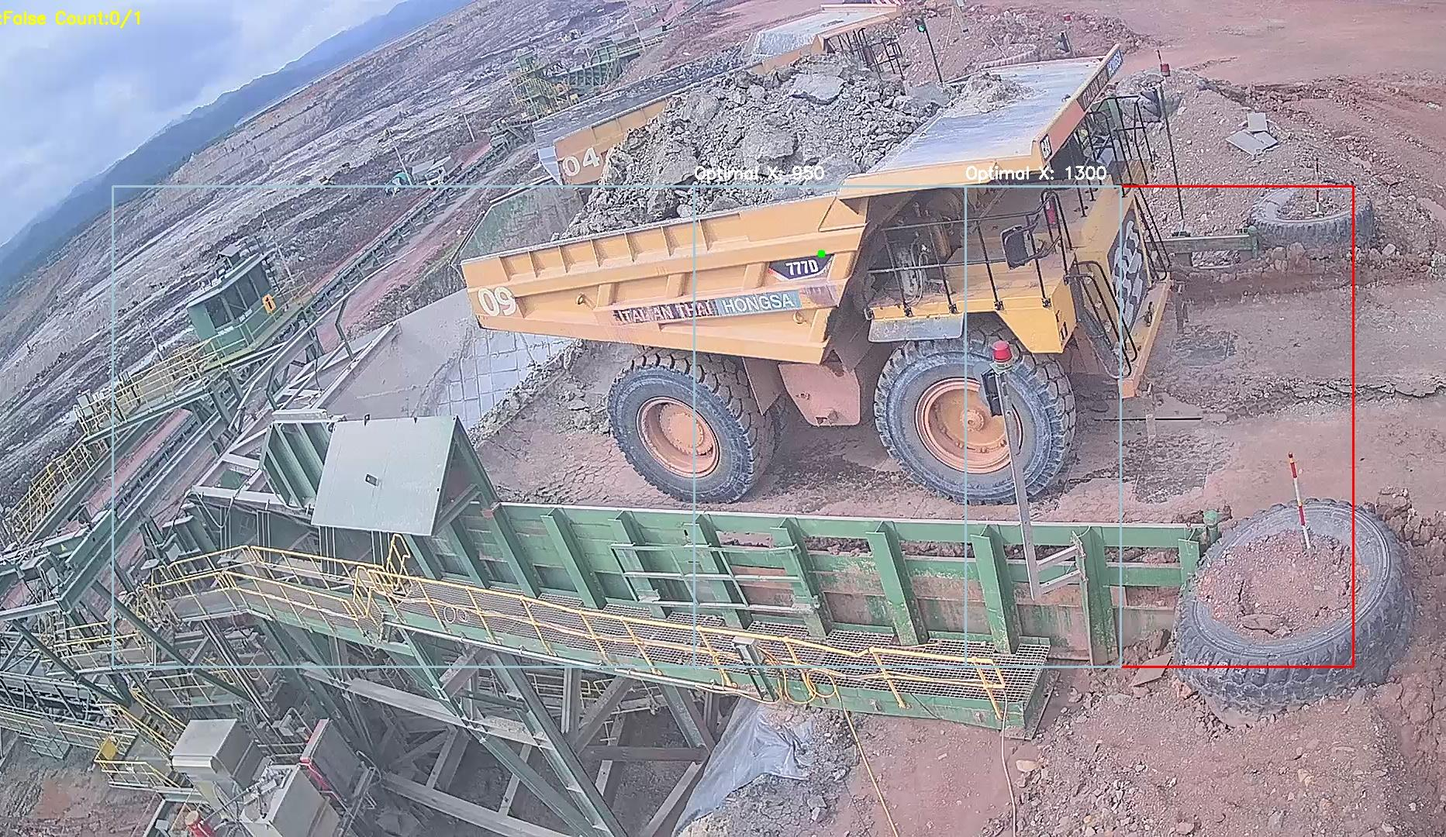company: (608, 288, 811, 324)
full_load: (616, 60, 902, 217)
mining_truck: (454, 45, 1190, 499)
tail_number: (466, 276, 531, 323)
truck_size: (759, 249, 833, 282)
